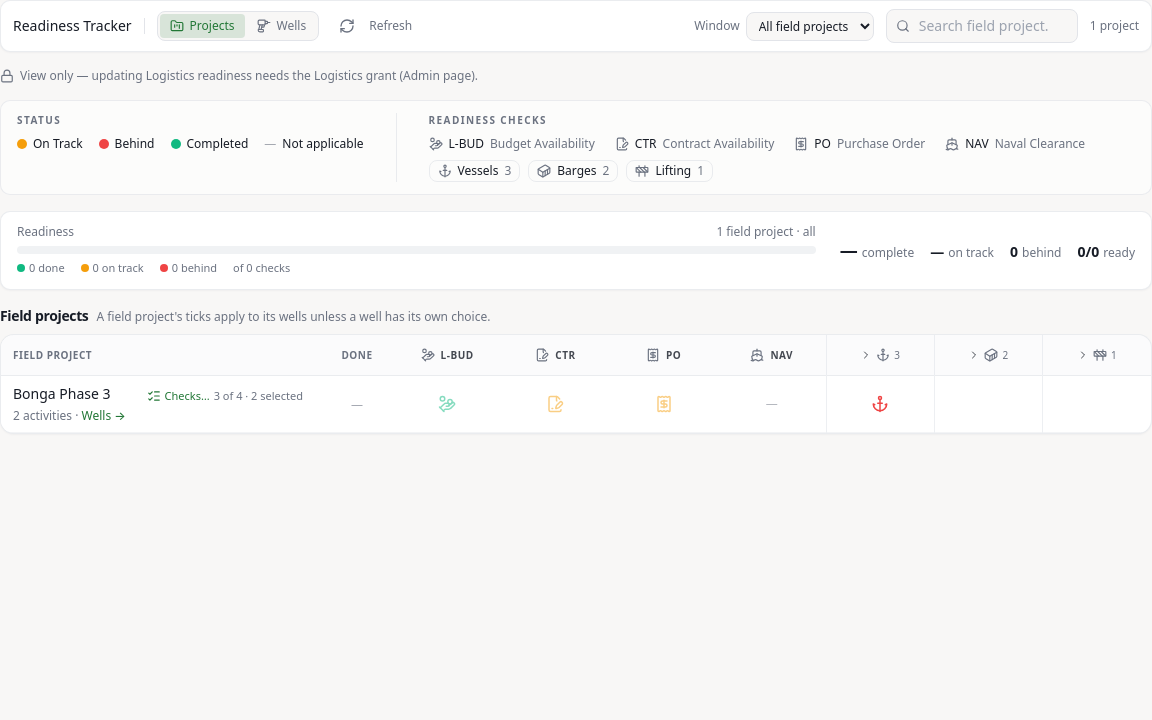
Scenario: the grouped, searchable tick list (spec §8.8) › is read-only without the grant: no box — group or row — can be changed
The image size is (1152, 720).
Click the button "Checks… 3 of 4 · 2 selected" at (225, 396), box left=141, top=384, right=309, bottom=408
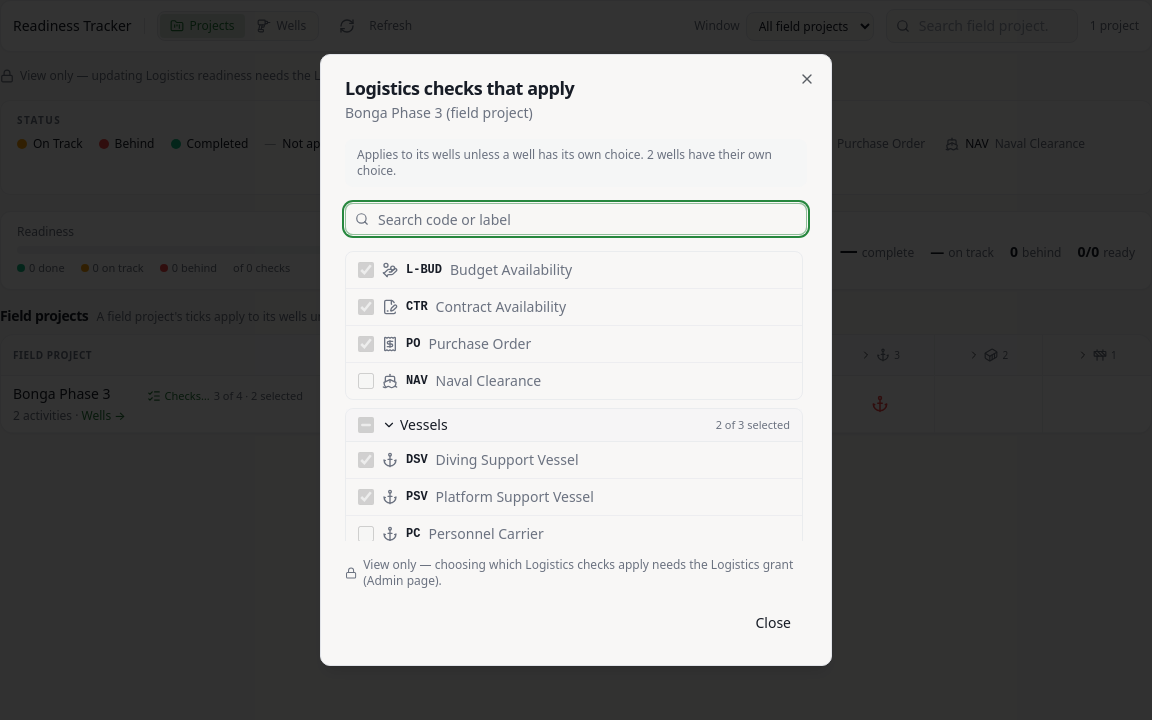
Check: the checkbox named "L-BUD — Budget Availability" is disabled, box left=358, top=262, right=374, bottom=278
Check: the checkbox named "CTR — Contract Availability" is disabled, box left=358, top=299, right=374, bottom=315
Check: the checkbox named "PO — Purchase Order" is disabled, box left=358, top=336, right=374, bottom=352
